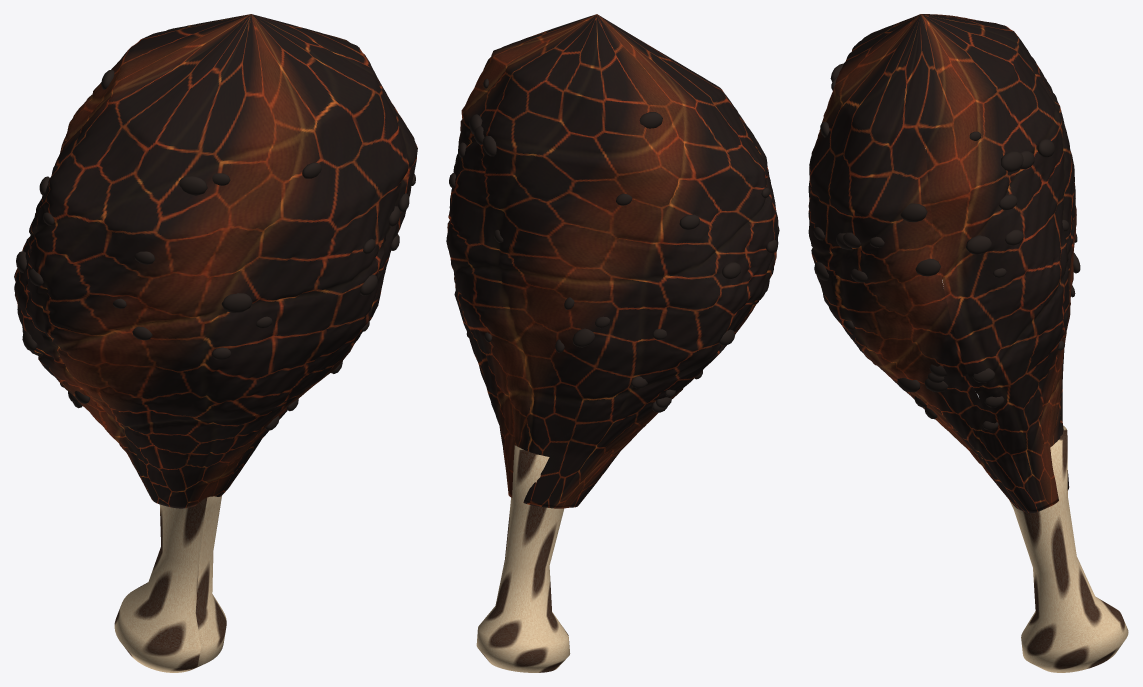
Rendered from burnt_haunch.glb.
The picture shows the model from 3 angles, left to right: view 1: azimuth 30°, elevation 25°; view 2: azimuth 150°, elevation 25°; view 3: azimuth 270°, elevation 25°; orthographic projection. The views are drawn at different scales.
Visible parts, largest first — view 1: burnt_haunch cracked black crust with dark brown flesh, Ivory dense cortical bone with residual tissue staining, Raised brittle charcoal blisters; view 2: burnt_haunch cracked black crust with dark brown flesh, Ivory dense cortical bone with residual tissue staining, Raised brittle charcoal blisters; view 3: burnt_haunch cracked black crust with dark brown flesh, Ivory dense cortical bone with residual tissue staining, Raised brittle charcoal blisters.
Part boxes in pixels (<box>): burnt_haunch cracked black crust with dark brown flesh: <box>14,14,417,508</box>; Ivory dense cortical bone with residual tissue staining: <box>114,496,226,672</box>; Raised brittle charcoal blisters: <box>16,70,415,430</box>; burnt_haunch cracked black crust with dark brown flesh: <box>446,14,779,508</box>; Ivory dense cortical bone with residual tissue staining: <box>476,445,570,672</box>; Raised brittle charcoal blisters: <box>449,78,777,412</box>; burnt_haunch cracked black crust with dark brown flesh: <box>808,14,1076,513</box>; Ivory dense cortical bone with residual tissue staining: <box>1009,425,1128,672</box>; Raised brittle charcoal blisters: <box>813,63,1080,430</box>.
Bounding box in the file's own units: 0.326 × 0.6076 × 0.2713.
3 materials, 2 textured.
